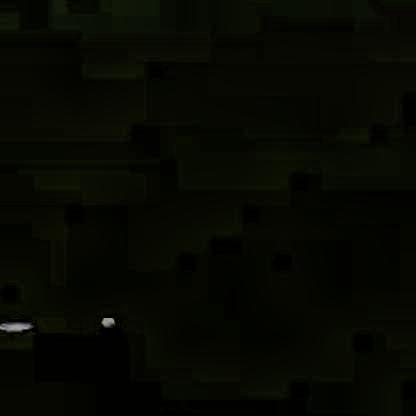golfball: (98, 315, 113, 326)
